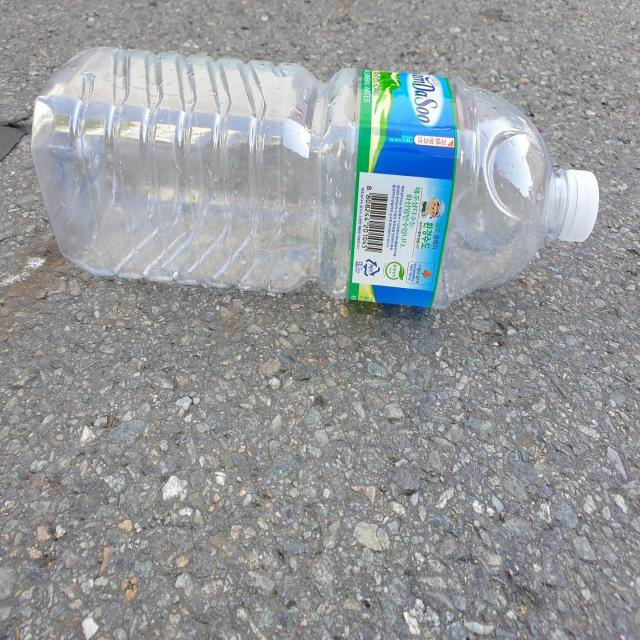plastic: (31, 46, 600, 309)
